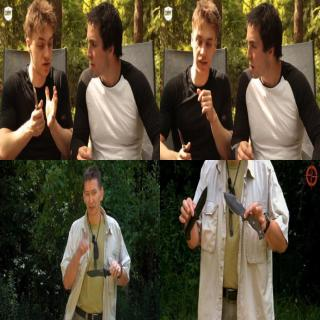knife: (223, 188, 265, 240), (184, 184, 208, 242), (85, 258, 118, 280), (29, 78, 45, 122), (176, 122, 192, 160)
